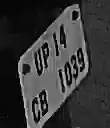0: (63, 62, 73, 88)
1: (51, 31, 62, 56), (56, 69, 66, 96)
3: (70, 56, 79, 79)
4: (58, 23, 70, 48)
9: (76, 47, 87, 73)
B: (39, 90, 48, 118)
C: (30, 95, 40, 126)
P: (40, 40, 52, 67)
U: (31, 48, 45, 78)
